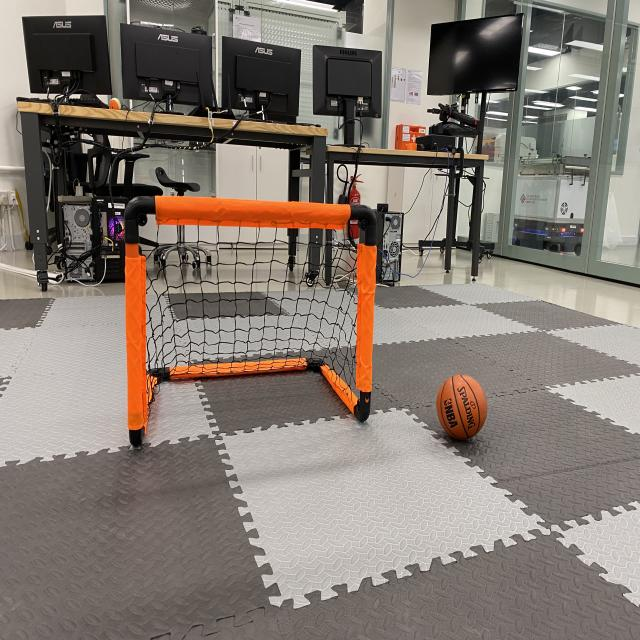ball: (432, 371, 493, 447)
gate: (119, 190, 382, 455)
